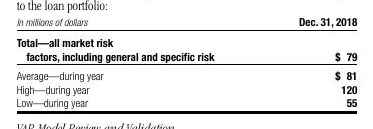table: (0, 0, 373, 129)
